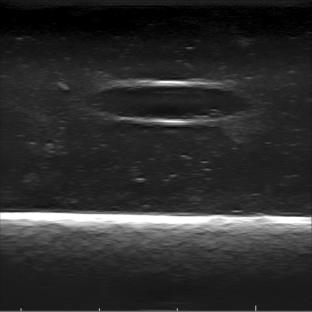vessel: (91, 79, 254, 126)
